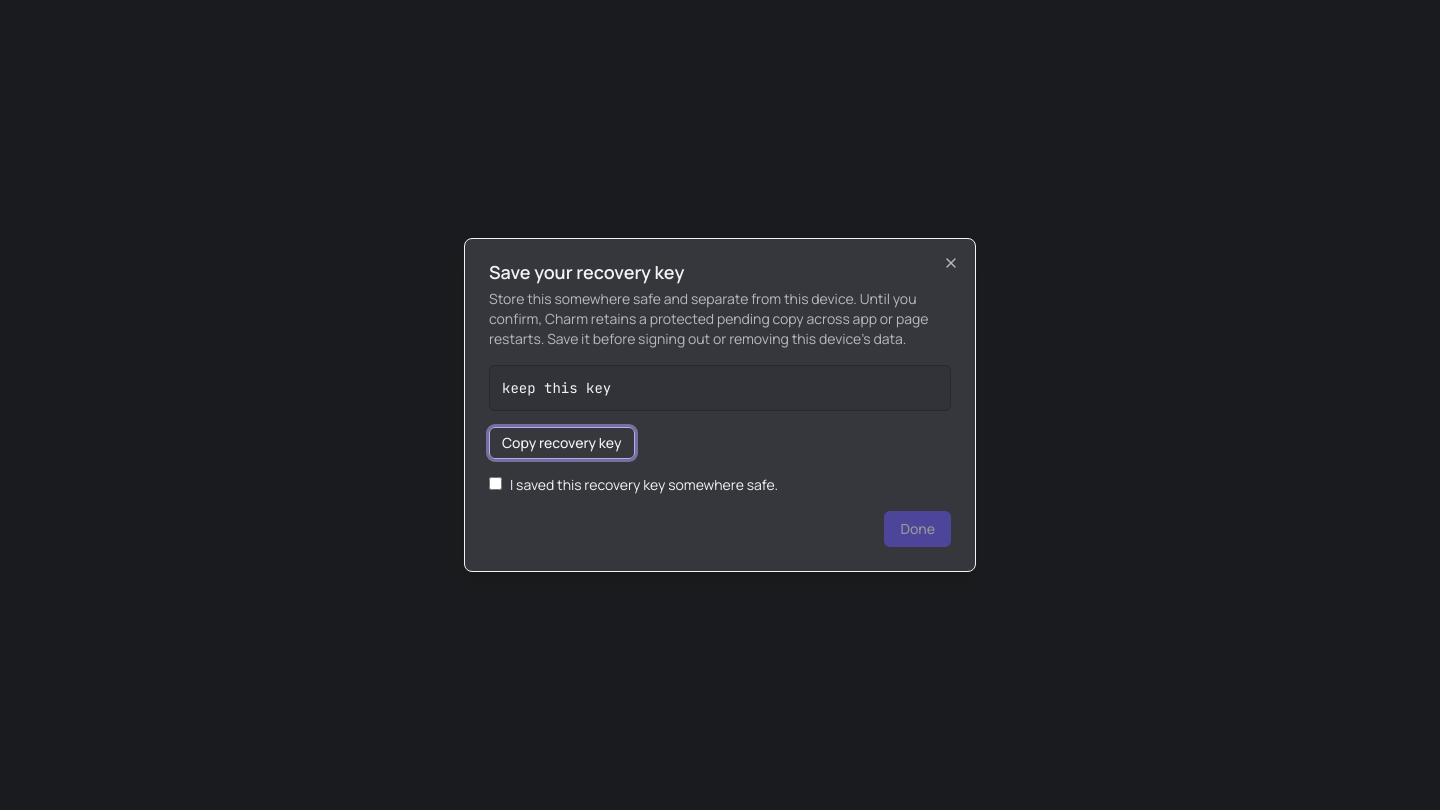
Test: RecoverySetupCard › retains the key when protected acknowledgement fails
Expected: the text "keep this key" is shown, x1=489 y1=365 x2=951 y2=411
Click the checkbox labelled "I saved this recovery key somewhere safe.": (496, 484) x1=489 y1=477 x2=502 y2=490
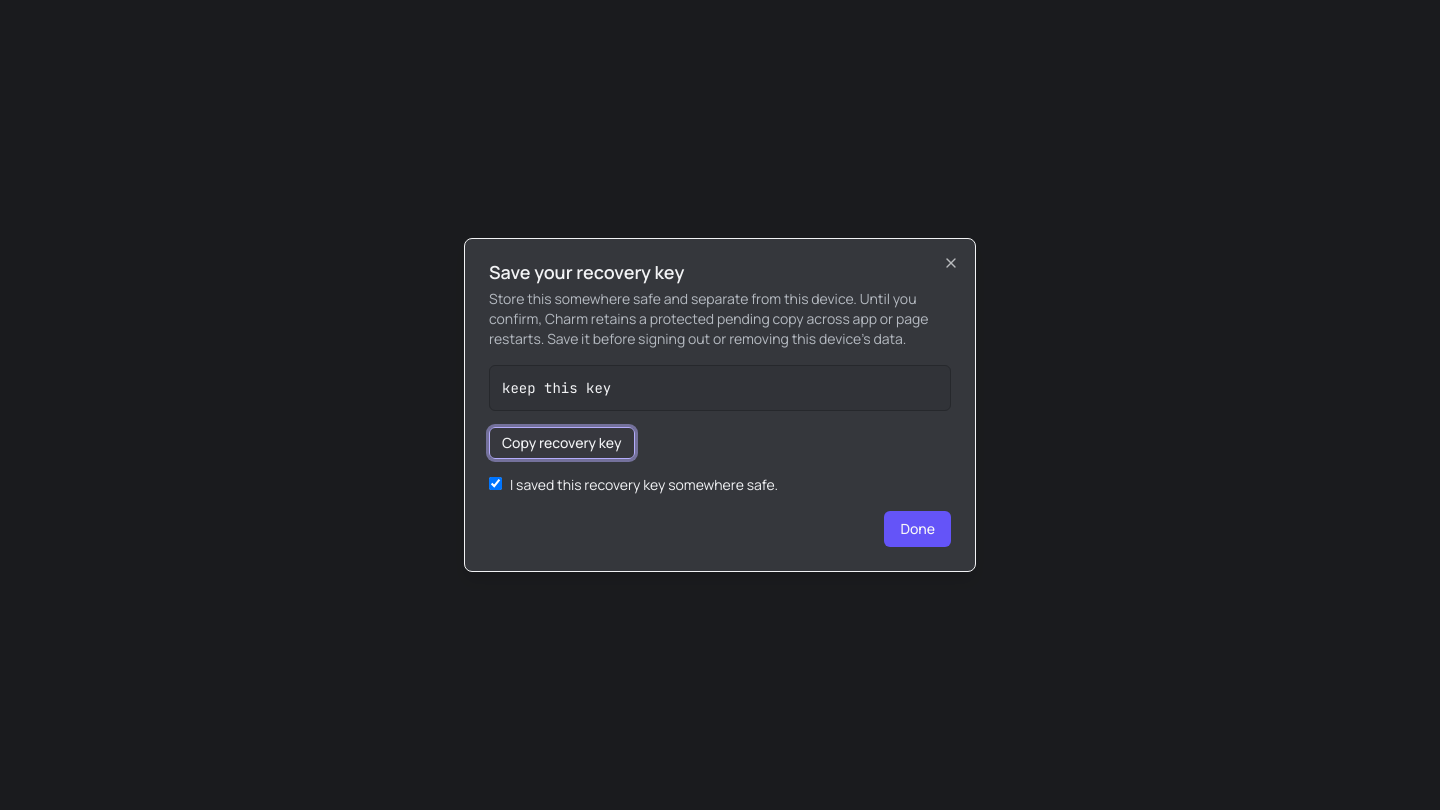
Click the button "Done": (918, 529) x1=884 y1=511 x2=951 y2=547
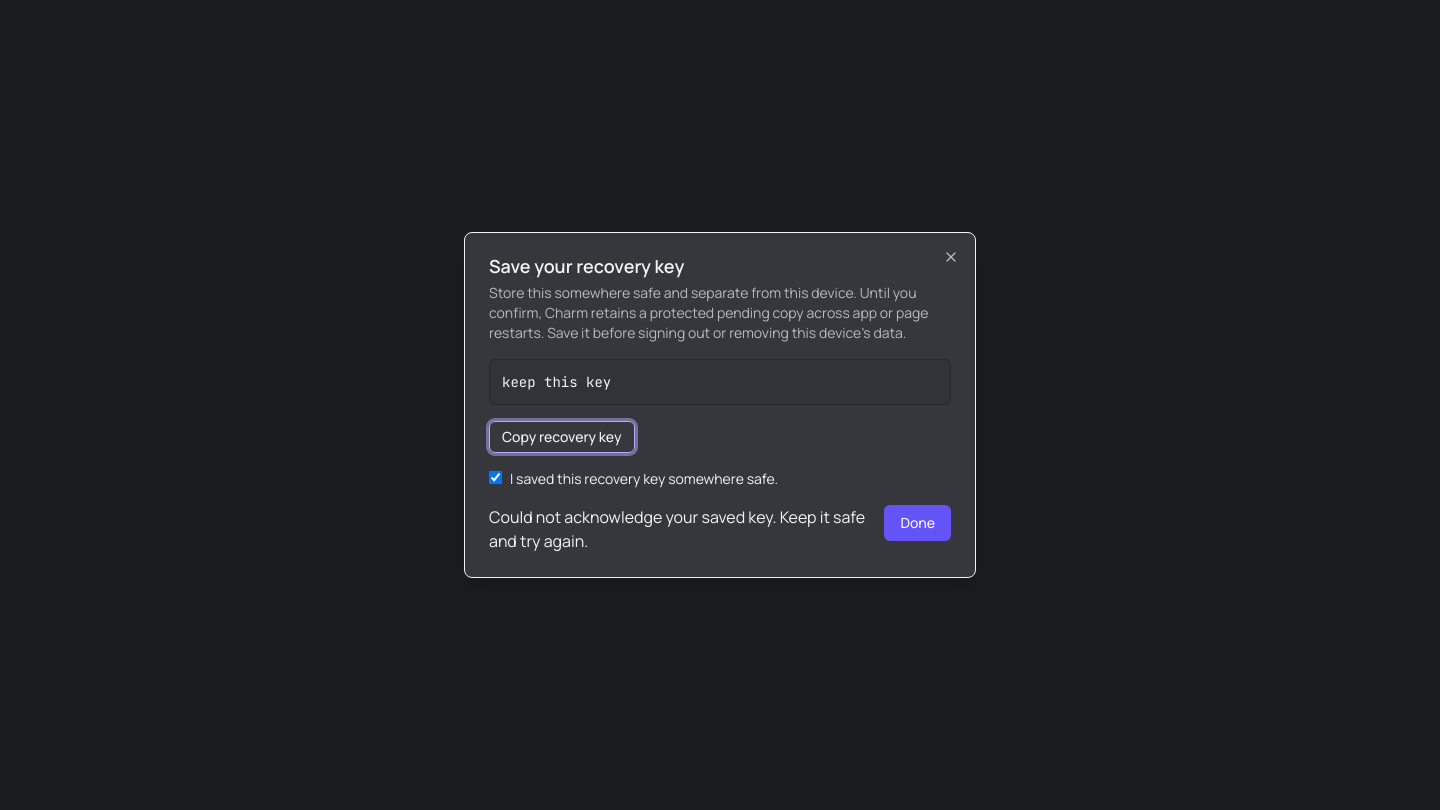
Expected: the text "keep this key" is shown, x1=489 y1=359 x2=951 y2=405
Expected: the message shows "Could not acknowledge", x1=489 y1=506 x2=865 y2=552
